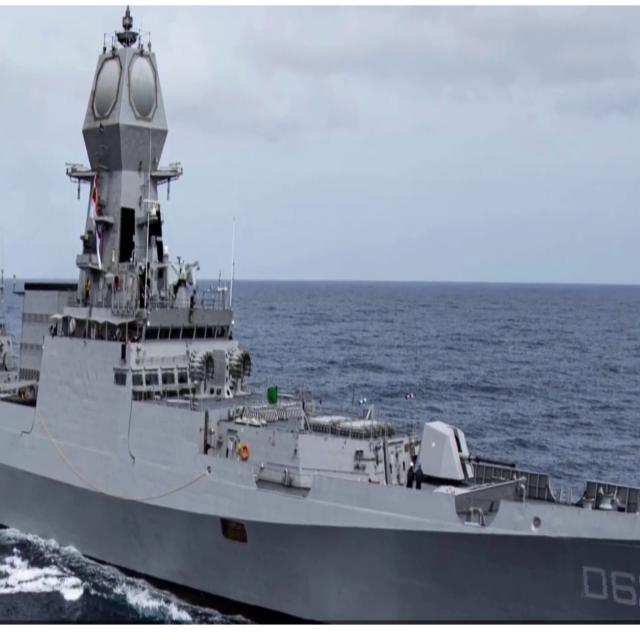OCR: (578, 564, 639, 614)
